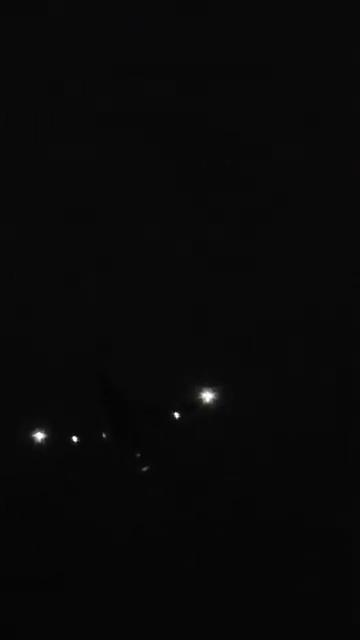Plane: (0, 387, 200, 481)
